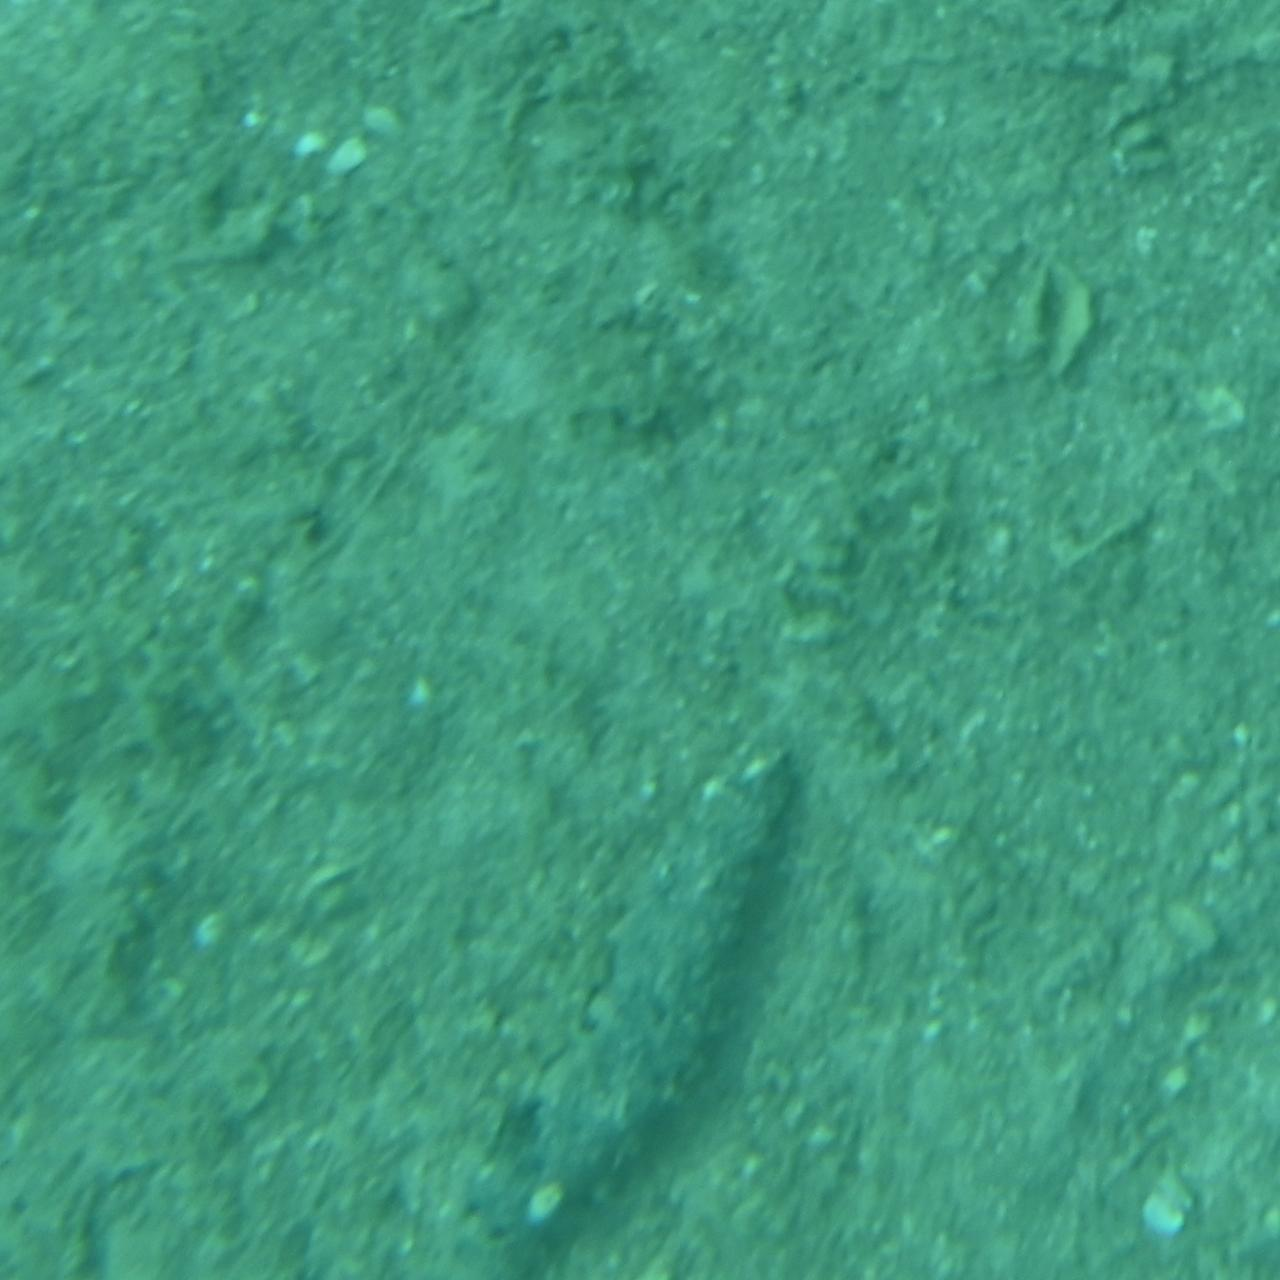Holothuria tubulosa: (458, 708, 822, 1277)
